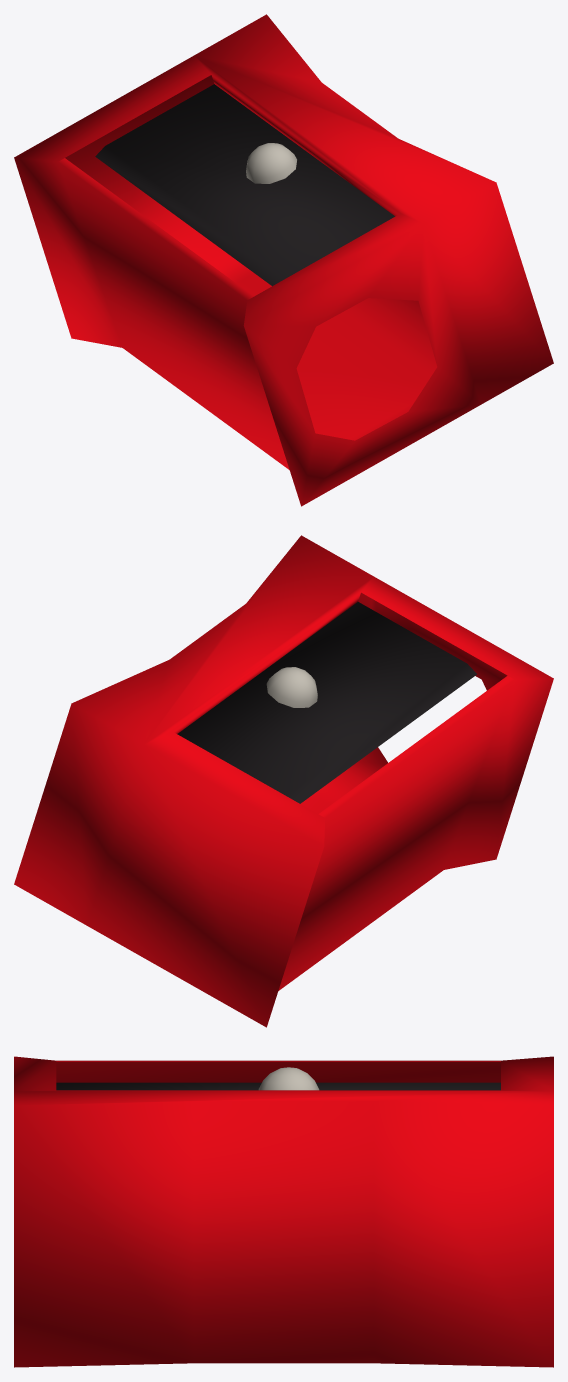
3 views of the same model, one above another, from view 1: azimuth 30°, elevation 25°; view 2: azimuth 150°, elevation 25°; view 3: azimuth 270°, elevation 25° (orthographic). The views are drawn at different scales.
Parts seen in each view (by area): view 1: Cube; view 2: Cube; view 3: Cube.
Part boxes in pixels (bbox=[...]): Cube: bbox=[14, 14, 553, 506]; Cube: bbox=[14, 535, 553, 1027]; Cube: bbox=[14, 1056, 553, 1367].
Size of the model in its own units: 133 by 156 by 200.
